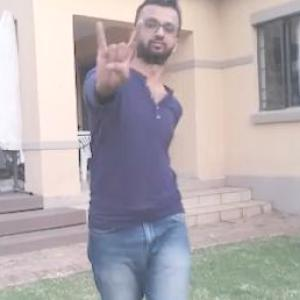takeoff-hand: (80, 14, 149, 96)
